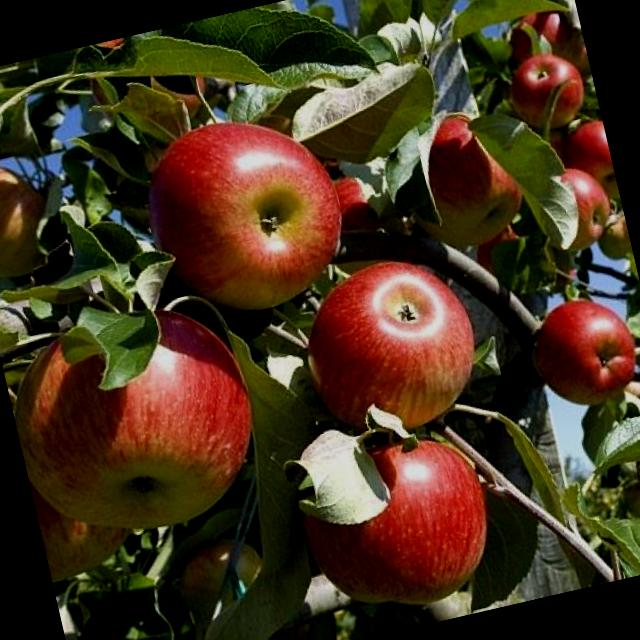apple: (0, 278, 265, 547), (130, 96, 364, 340), (276, 407, 518, 626), (289, 245, 490, 450), (378, 94, 540, 248), (516, 284, 638, 410), (510, 148, 618, 262), (494, 43, 596, 147)
